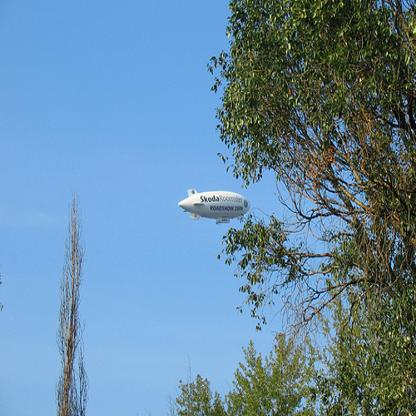Airship: (175, 183, 259, 226)
